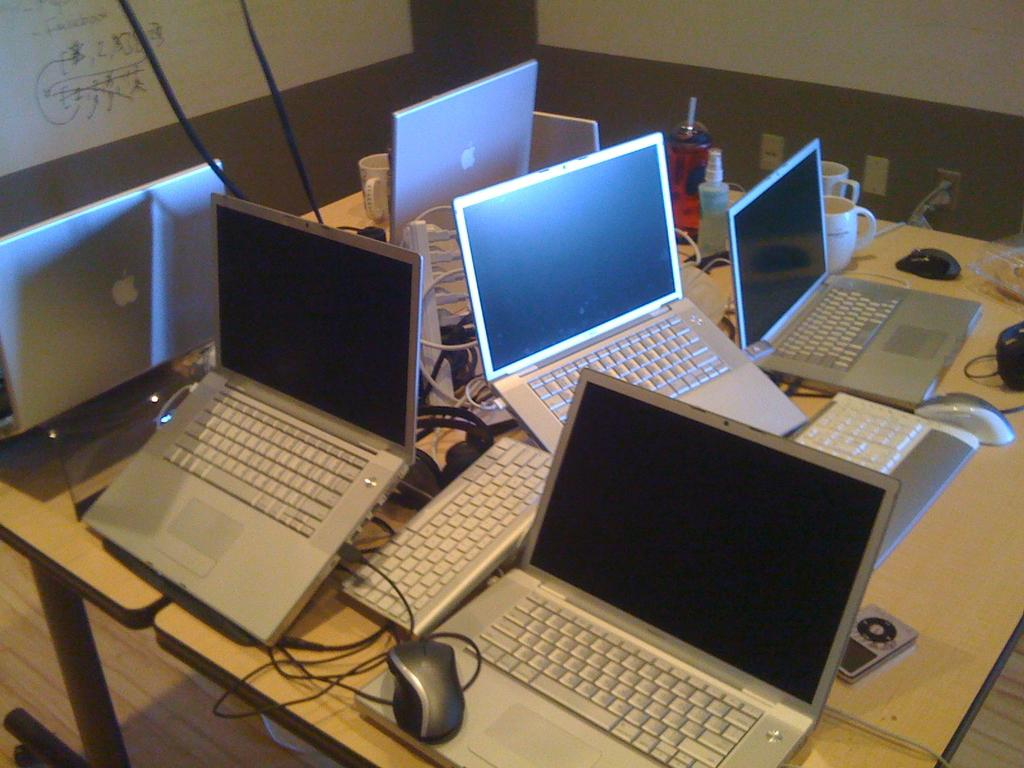Computer-keyboard: (465, 589, 765, 767), (338, 436, 552, 636), (785, 388, 977, 570), (153, 388, 371, 537), (527, 315, 728, 430), (772, 279, 898, 371)
